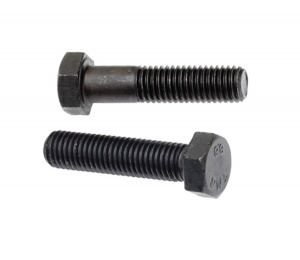screw: (44, 131, 232, 199), (57, 52, 248, 116)
